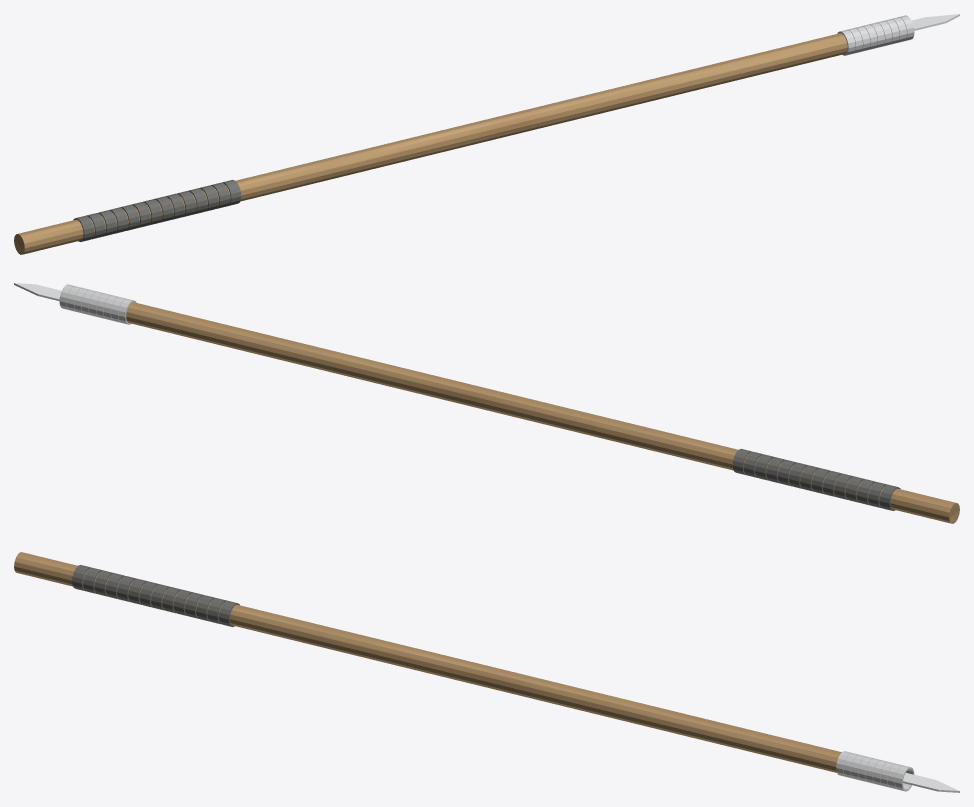
File: lanca.glb
3 renders of one model, top to bottom at view 1: azimuth 30°, elevation 25°; view 2: azimuth 150°, elevation 25°; view 3: azimuth 330°, elevation 25°, orthographic.
Visible parts, largest first — view 1: lanca_madeira_crua, lanca_tecido_cinza, lanca_fita_prata; view 2: lanca_madeira_crua, lanca_tecido_cinza, lanca_fita_prata; view 3: lanca_madeira_crua, lanca_tecido_cinza, lanca_fita_prata, lanca_aco_polido.
Boxes of the visible parts, x1,y1,x2,y2 form: lanca_madeira_crua: (14,33,847,254); lanca_tecido_cinza: (73,179,241,241); lanca_fita_prata: (837,15,914,55); lanca_madeira_crua: (126,302,959,523); lanca_tecido_cinza: (732,448,900,510); lanca_fita_prata: (59,284,136,324); lanca_madeira_crua: (14,552,841,772); lanca_tecido_cinza: (72,565,239,627); lanca_fita_prata: (836,751,914,791); lanca_aco_polido: (903,773,959,792).
Size of the model in its own units: 1.6 by 0.037 by 0.037.
Materials: 4 (2 with a texture image).
